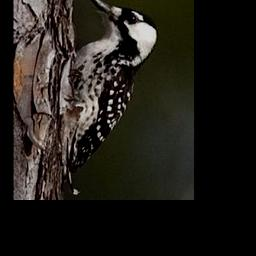Woodpecker: (58, 0, 162, 172)
